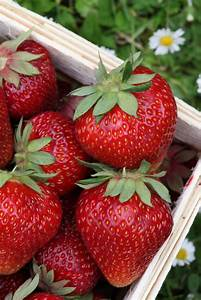Fresa: (72, 166, 184, 293), (70, 57, 183, 181), (1, 168, 70, 282), (14, 104, 93, 196), (29, 199, 100, 300), (1, 34, 67, 122)
